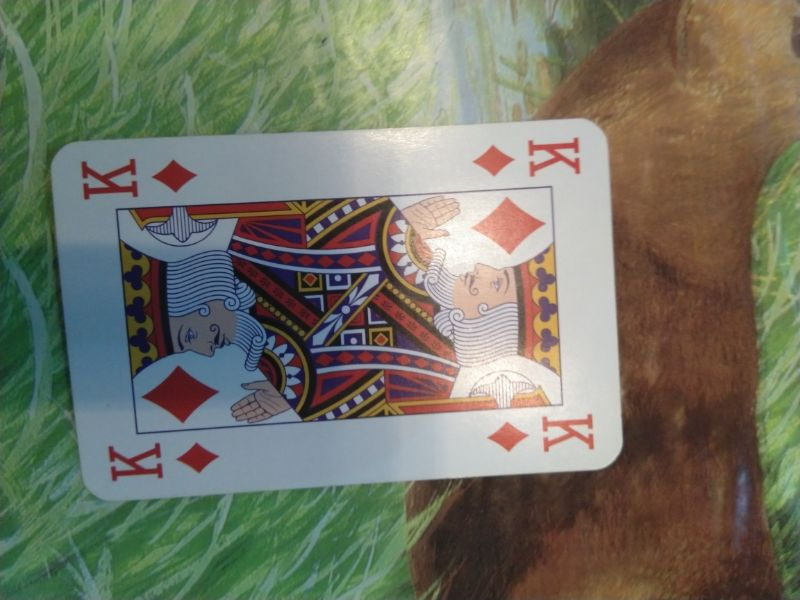Kd: (103, 437, 226, 487), (76, 158, 203, 201), (470, 132, 583, 180), (487, 408, 599, 456)
